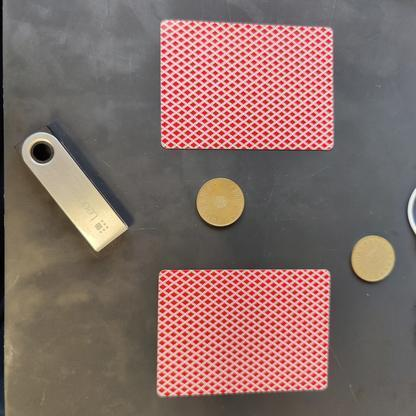card: (150, 12, 343, 159), (143, 256, 336, 403)
